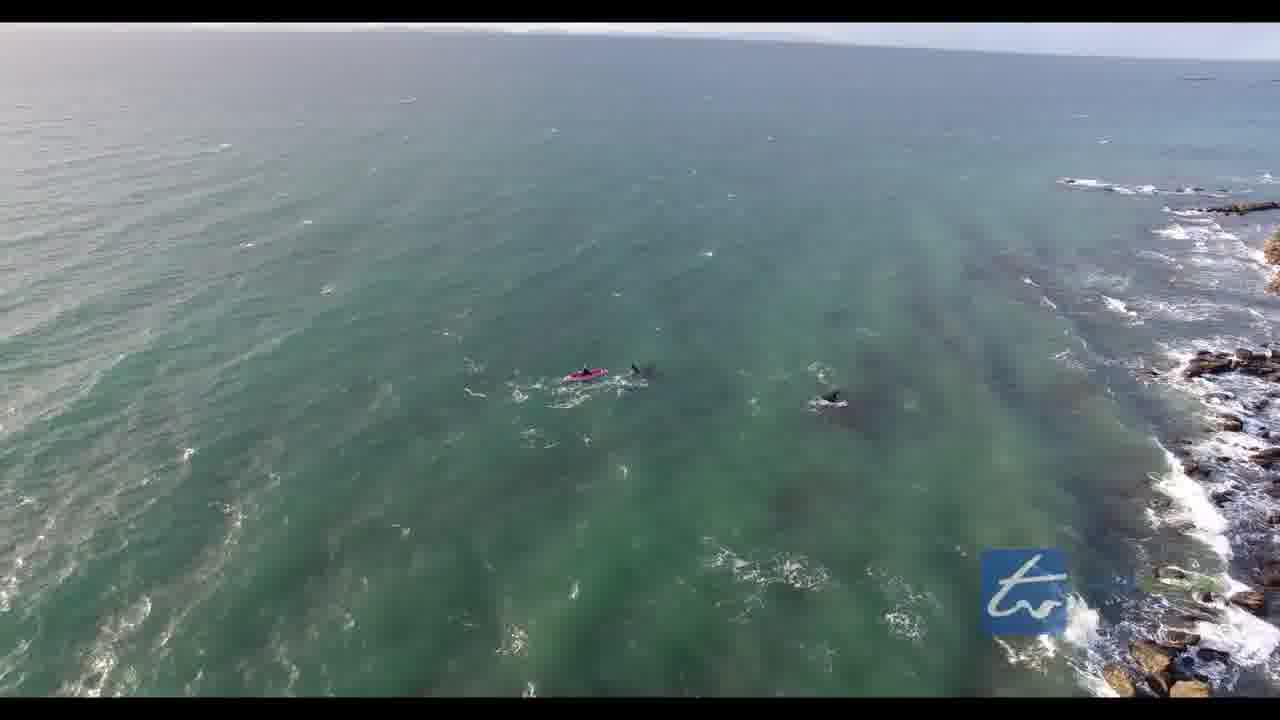human: (802, 376, 855, 413)
